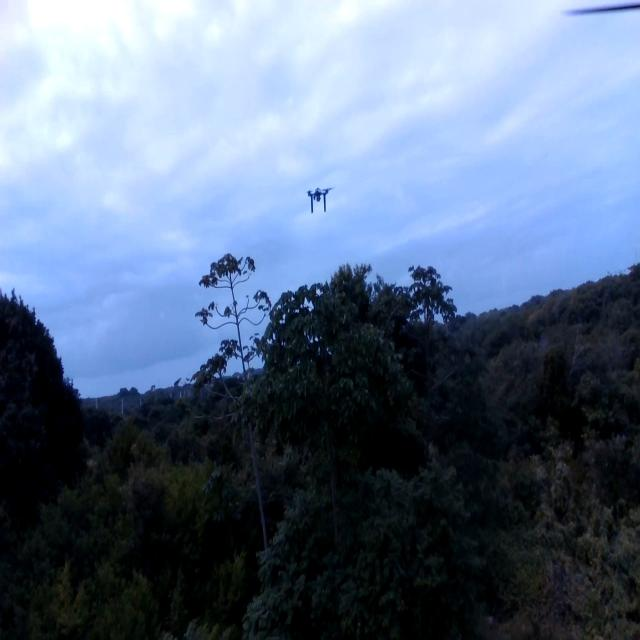-uav-: (302, 174, 337, 222)
